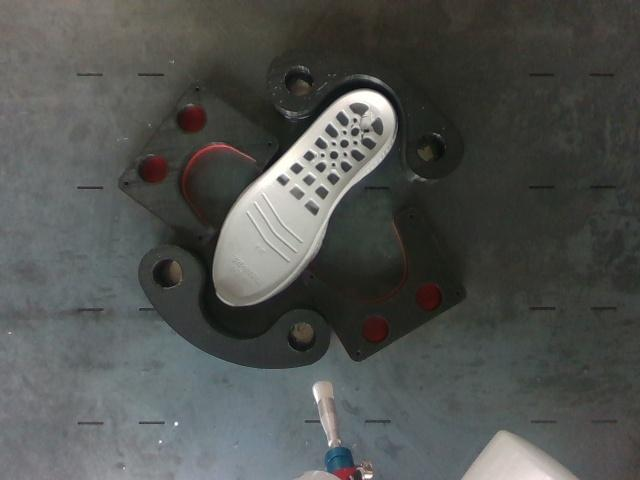shoes: (214, 92, 394, 305)
